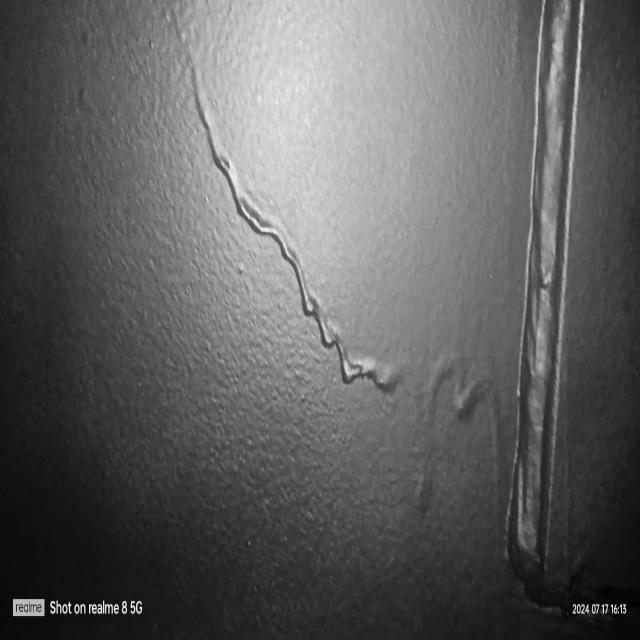paint drips: (169, 8, 407, 414), (412, 335, 504, 546)
